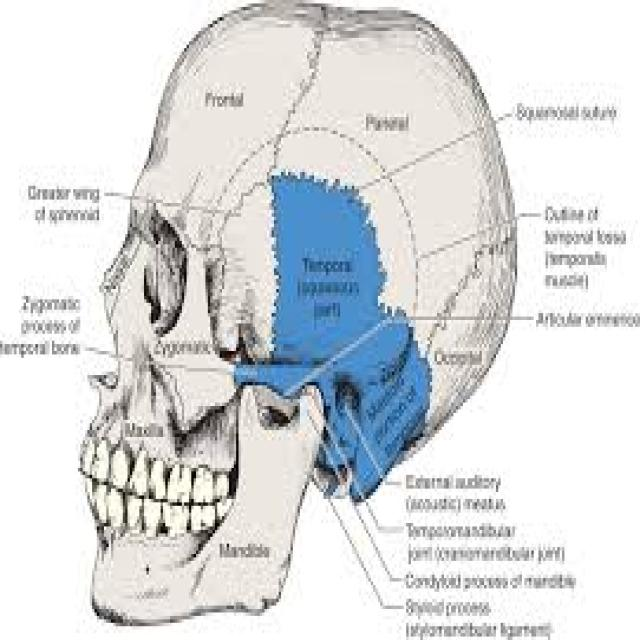skull: (76, 0, 526, 640)
